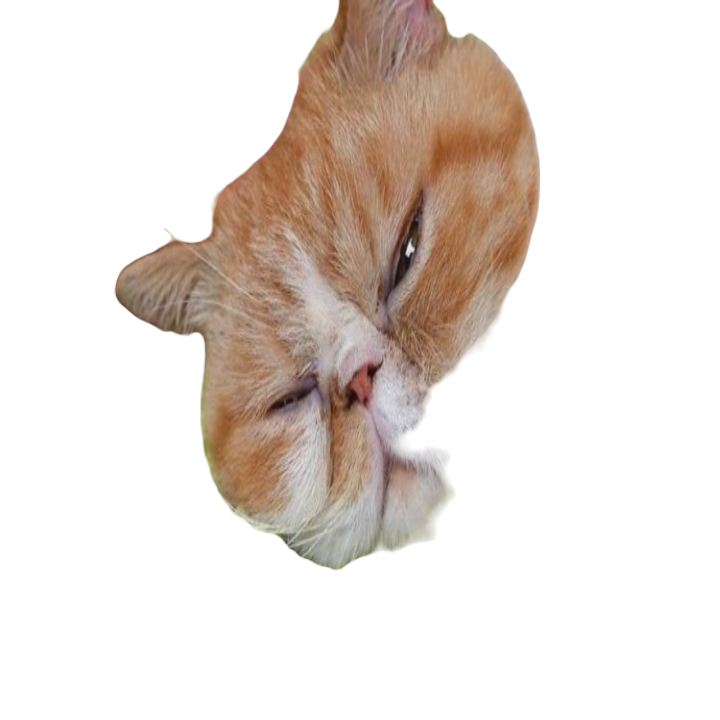Cat: (105, 0, 538, 576)
